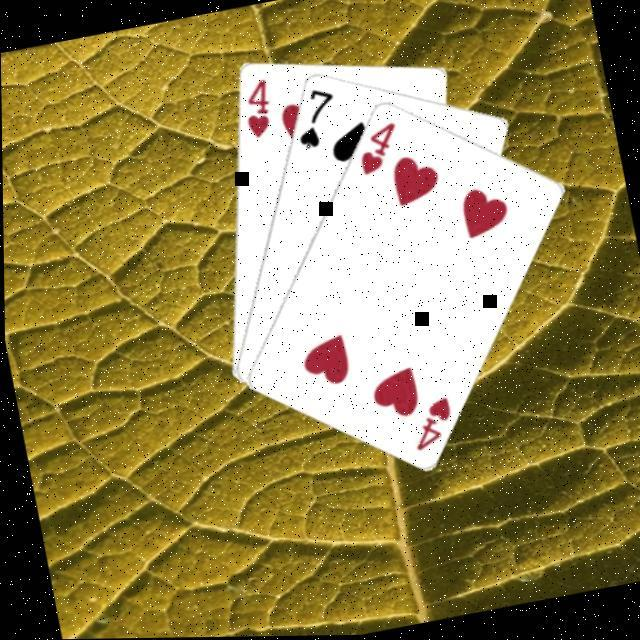4H: (400, 391, 457, 454), (347, 116, 403, 177), (232, 74, 275, 141)
7S: (283, 81, 341, 153)
